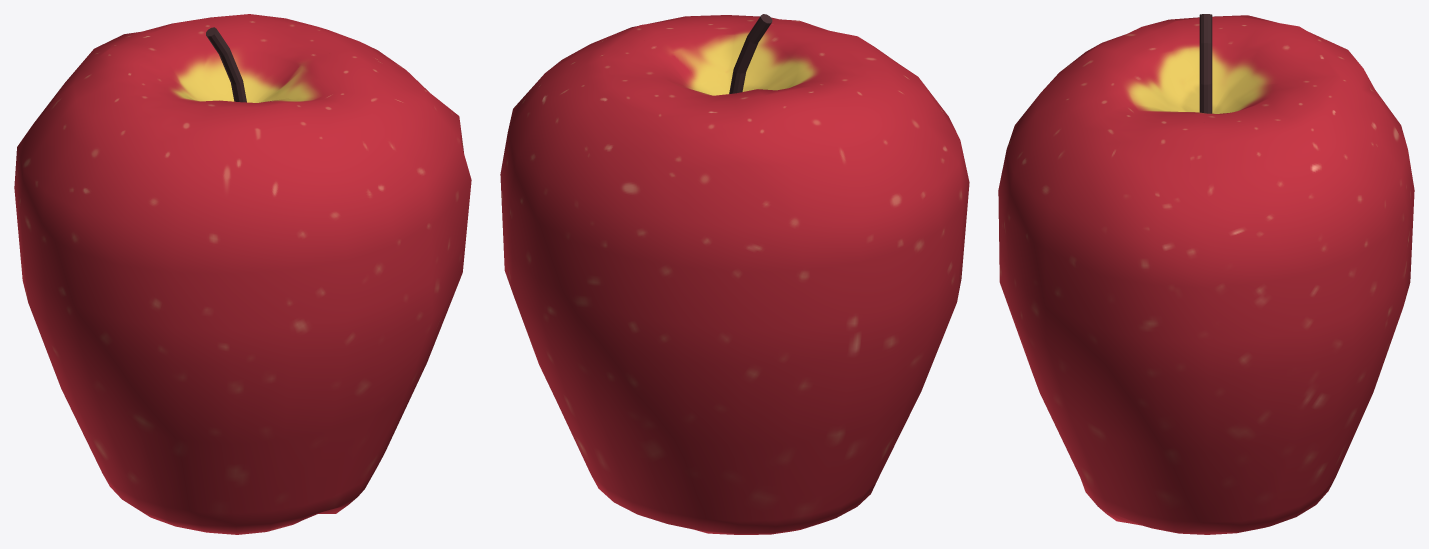
Rendered from fruit_of_knowledge.gltf.
3 renders of one model, left to right at view 1: azimuth 30°, elevation 25°; view 2: azimuth 150°, elevation 25°; view 3: azimuth 270°, elevation 25°, orthographic. The views are drawn at different scales.
Visible parts, largest first — view 1: apple_base, apple_stem; view 2: apple_base, apple_stem; view 3: apple_base, apple_stem.
Part boxes in pixels (left/top/right/bottom): apple_base: left=14, top=14, right=471, bottom=534; apple_stem: left=206, top=27, right=246, bottom=102; apple_base: left=500, top=15, right=969, bottom=534; apple_stem: left=729, top=14, right=772, bottom=93; apple_base: left=998, top=15, right=1414, bottom=534; apple_stem: left=1199, top=14, right=1212, bottom=113.
Bounding box in the file's own units: 0.00989 × 0.0111 × 0.00887.
2 materials, 1 textured.
